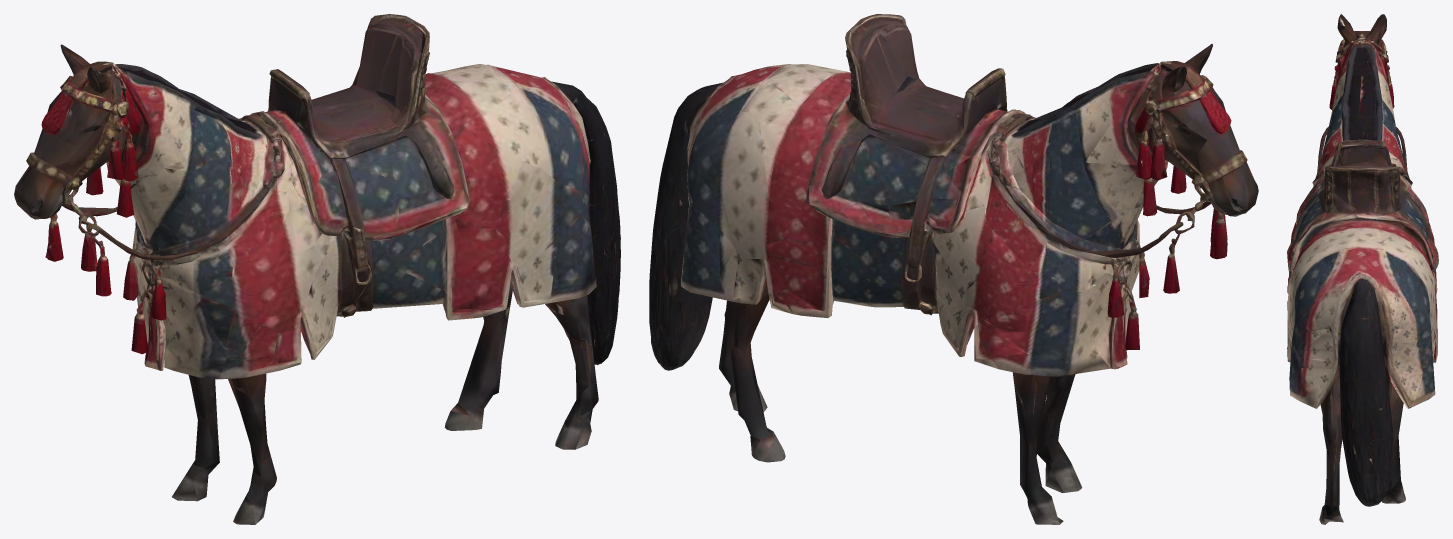
File: horse_armour.glb
The picture shows the model from 3 angles, left to right: view 1: azimuth 30°, elevation 25°; view 2: azimuth 150°, elevation 25°; view 3: azimuth 270°, elevation 25°; orthographic projection. The views are drawn at different scales.
Size of the model in its own units: 1.89 by 1.47 by 0.5896.
1 material, 1 textured.
